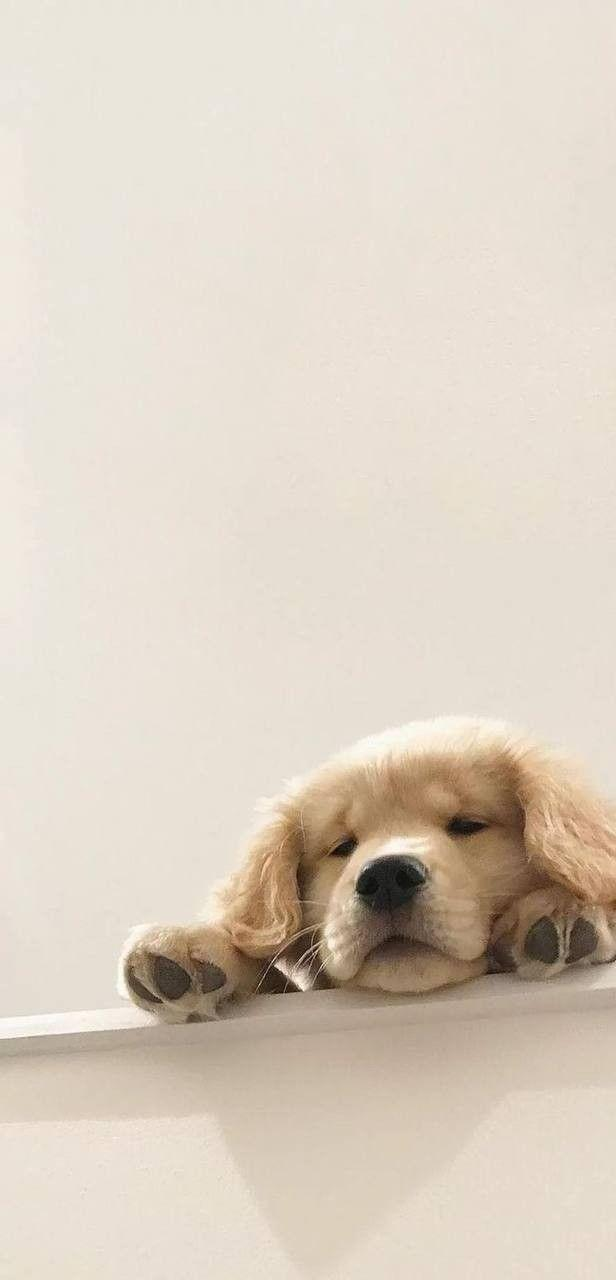puppy-dog: (118, 715, 616, 1024)
